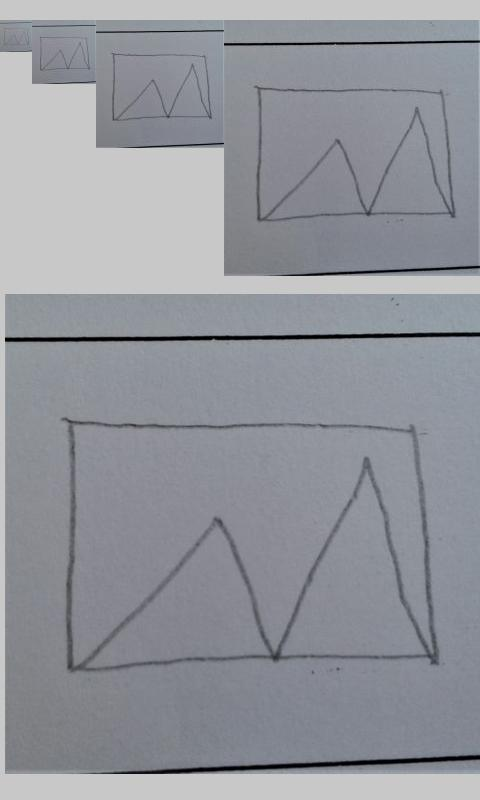image_view: (64, 419, 437, 675), (254, 85, 455, 223), (110, 51, 214, 121), (39, 36, 90, 71), (3, 27, 30, 47)
